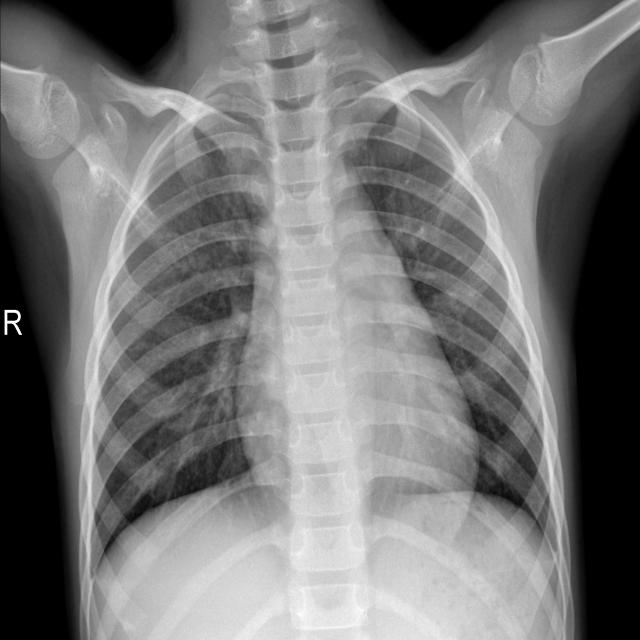no-pneumonia: (336, 94, 560, 541), (83, 112, 271, 577)
